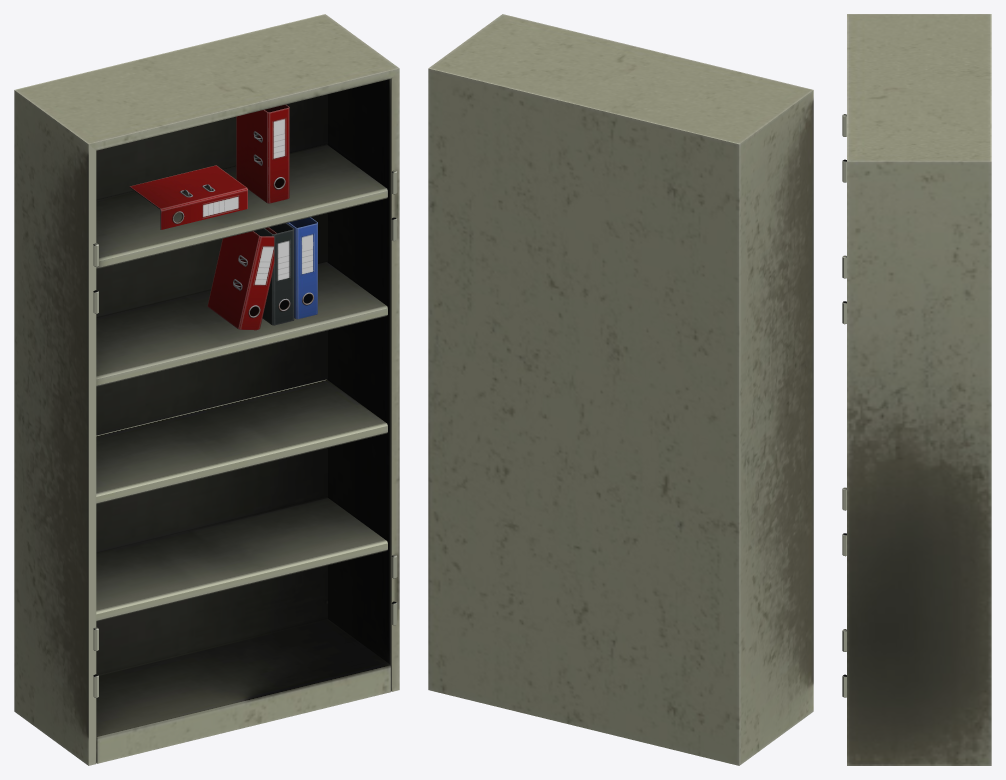
The model's file is shelf.glb.
3 views of the same model, side by side, from view 1: azimuth 30°, elevation 25°; view 2: azimuth 150°, elevation 25°; view 3: azimuth 270°, elevation 25° (orthographic). The views are drawn at different scales.
Visible parts, largest first — view 1: Office_Closet_1_OfficeDrawer_0; view 2: Office_Closet_1_OfficeDrawer_0; view 3: Office_Closet_1_OfficeDrawer_0.
Part boxes in pixels (<box>): Office_Closet_1_OfficeDrawer_0: <box>14,14,399,765</box>; Office_Closet_1_OfficeDrawer_0: <box>428,14,813,765</box>; Office_Closet_1_OfficeDrawer_0: <box>842,14,991,765</box>.
Bounding box in the file's own units: 2 × 3.83 × 0.8583.
Materials: 2 (2 with a texture image).
